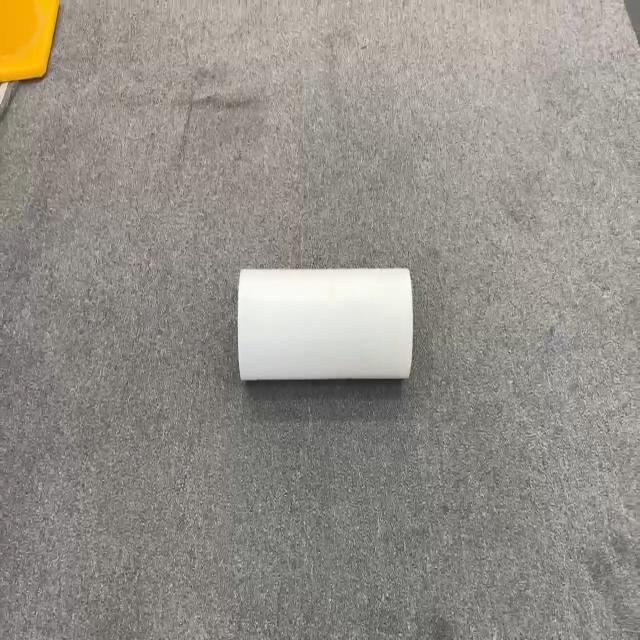coral: (236, 265, 414, 382)
